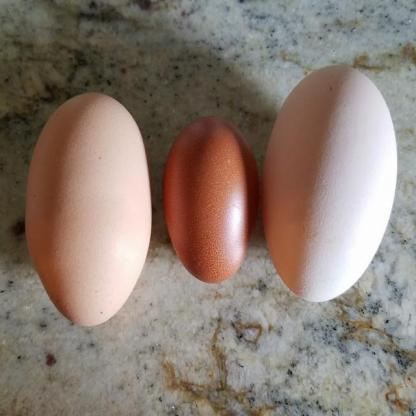egg: (258, 50, 406, 323), (19, 66, 160, 338), (159, 100, 262, 314)
